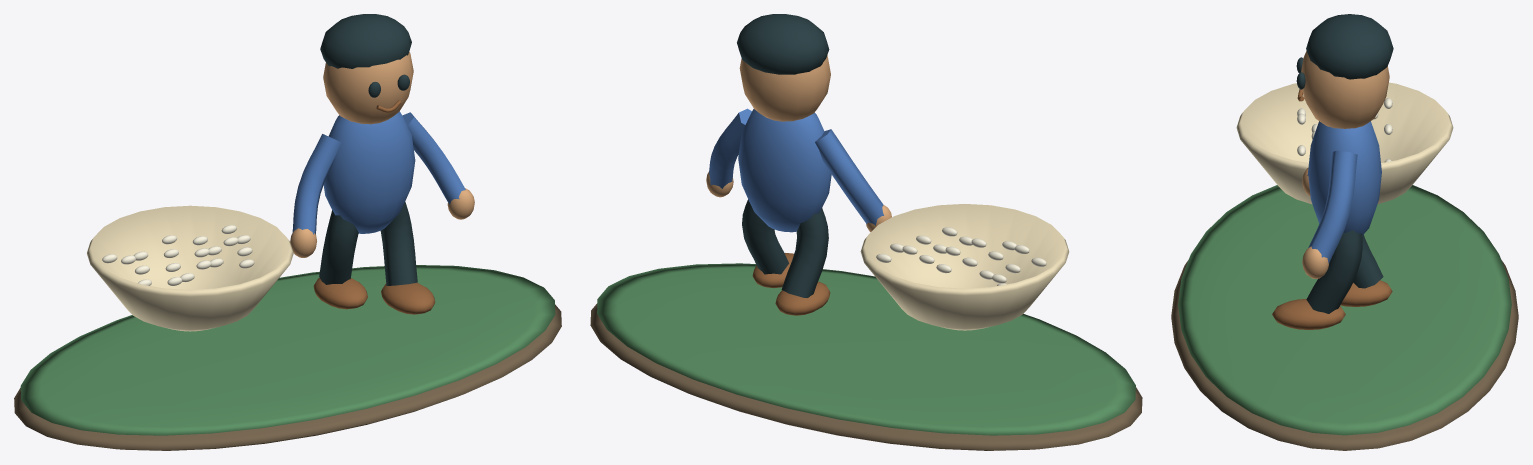
The model's file is hungry-person.glb.
3 views of the same model, side by side, from view 1: azimuth 30°, elevation 25°; view 2: azimuth 150°, elevation 25°; view 3: azimuth 270°, elevation 25° (orthographic). The views are drawn at different scales.
Visible parts, largest first — view 1: hungry-person_surface_01, hungry-person_surface_02, hungry-person_surface_06, hungry-person_surface_00, hungry-person_surface_04, hungry-person_surface_03, hungry-person_surface_05, hungry-person_surface_07; view 2: hungry-person_surface_01, hungry-person_surface_02, hungry-person_surface_06, hungry-person_surface_00, hungry-person_surface_04, hungry-person_surface_03, hungry-person_surface_07, hungry-person_surface_05; view 3: hungry-person_surface_01, hungry-person_surface_02, hungry-person_surface_04, hungry-person_surface_06, hungry-person_surface_00, hungry-person_surface_03, hungry-person_surface_05, hungry-person_surface_07.
Part boxes in pixels (x1=…): hungry-person_surface_01: x1=20, y1=265, x2=555, y2=435; hungry-person_surface_02: x1=87, y1=205, x2=293, y2=331; hungry-person_surface_06: x1=292, y1=111, x2=465, y2=234; hungry-person_surface_00: x1=14, y1=304, x2=561, y2=450; hungry-person_surface_04: x1=319, y1=14, x2=417, y2=285; hungry-person_surface_03: x1=290, y1=52, x2=474, y2=257; hungry-person_surface_05: x1=313, y1=100, x2=435, y2=314; hungry-person_surface_07: x1=102, y1=225, x2=254, y2=285; hungry-person_surface_01: x1=597, y1=263, x2=1135, y2=435; hungry-person_surface_02: x1=860, y1=204, x2=1069, y2=330; hungry-person_surface_06: x1=709, y1=108, x2=883, y2=232; hungry-person_surface_00: x1=590, y1=303, x2=1142, y2=450; hungry-person_surface_04: x1=737, y1=14, x2=829, y2=297; hungry-person_surface_03: x1=706, y1=55, x2=891, y2=232; hungry-person_surface_07: x1=876, y1=227, x2=1046, y2=285; hungry-person_surface_05: x1=752, y1=253, x2=830, y2=315; hungry-person_surface_01: x1=1178, y1=185, x2=1511, y2=435; hungry-person_surface_02: x1=1236, y1=82, x2=1453, y2=204; hungry-person_surface_04: x1=1296, y1=14, x2=1393, y2=313; hungry-person_surface_06: x1=1307, y1=121, x2=1381, y2=263; hungry-person_surface_00: x1=1171, y1=260, x2=1518, y2=450; hungry-person_surface_03: x1=1301, y1=51, x2=1389, y2=278; hungry-person_surface_05: x1=1272, y1=89, x2=1392, y2=329; hungry-person_surface_07: x1=1297, y1=98, x2=1392, y2=162.
Bounding box in the file's own units: 4.56 × 2.81 × 2.5.
